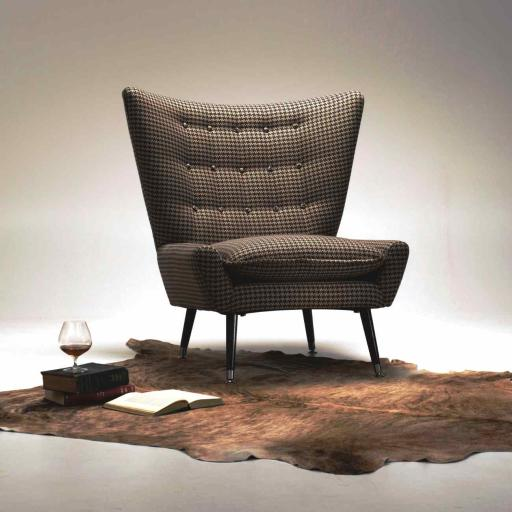chair: (109, 82, 406, 386)
